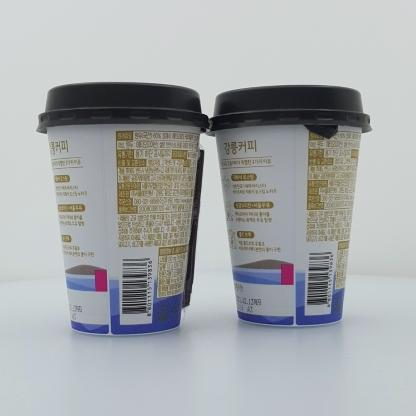----------250ML: (36, 82, 210, 336), (205, 85, 372, 327)
